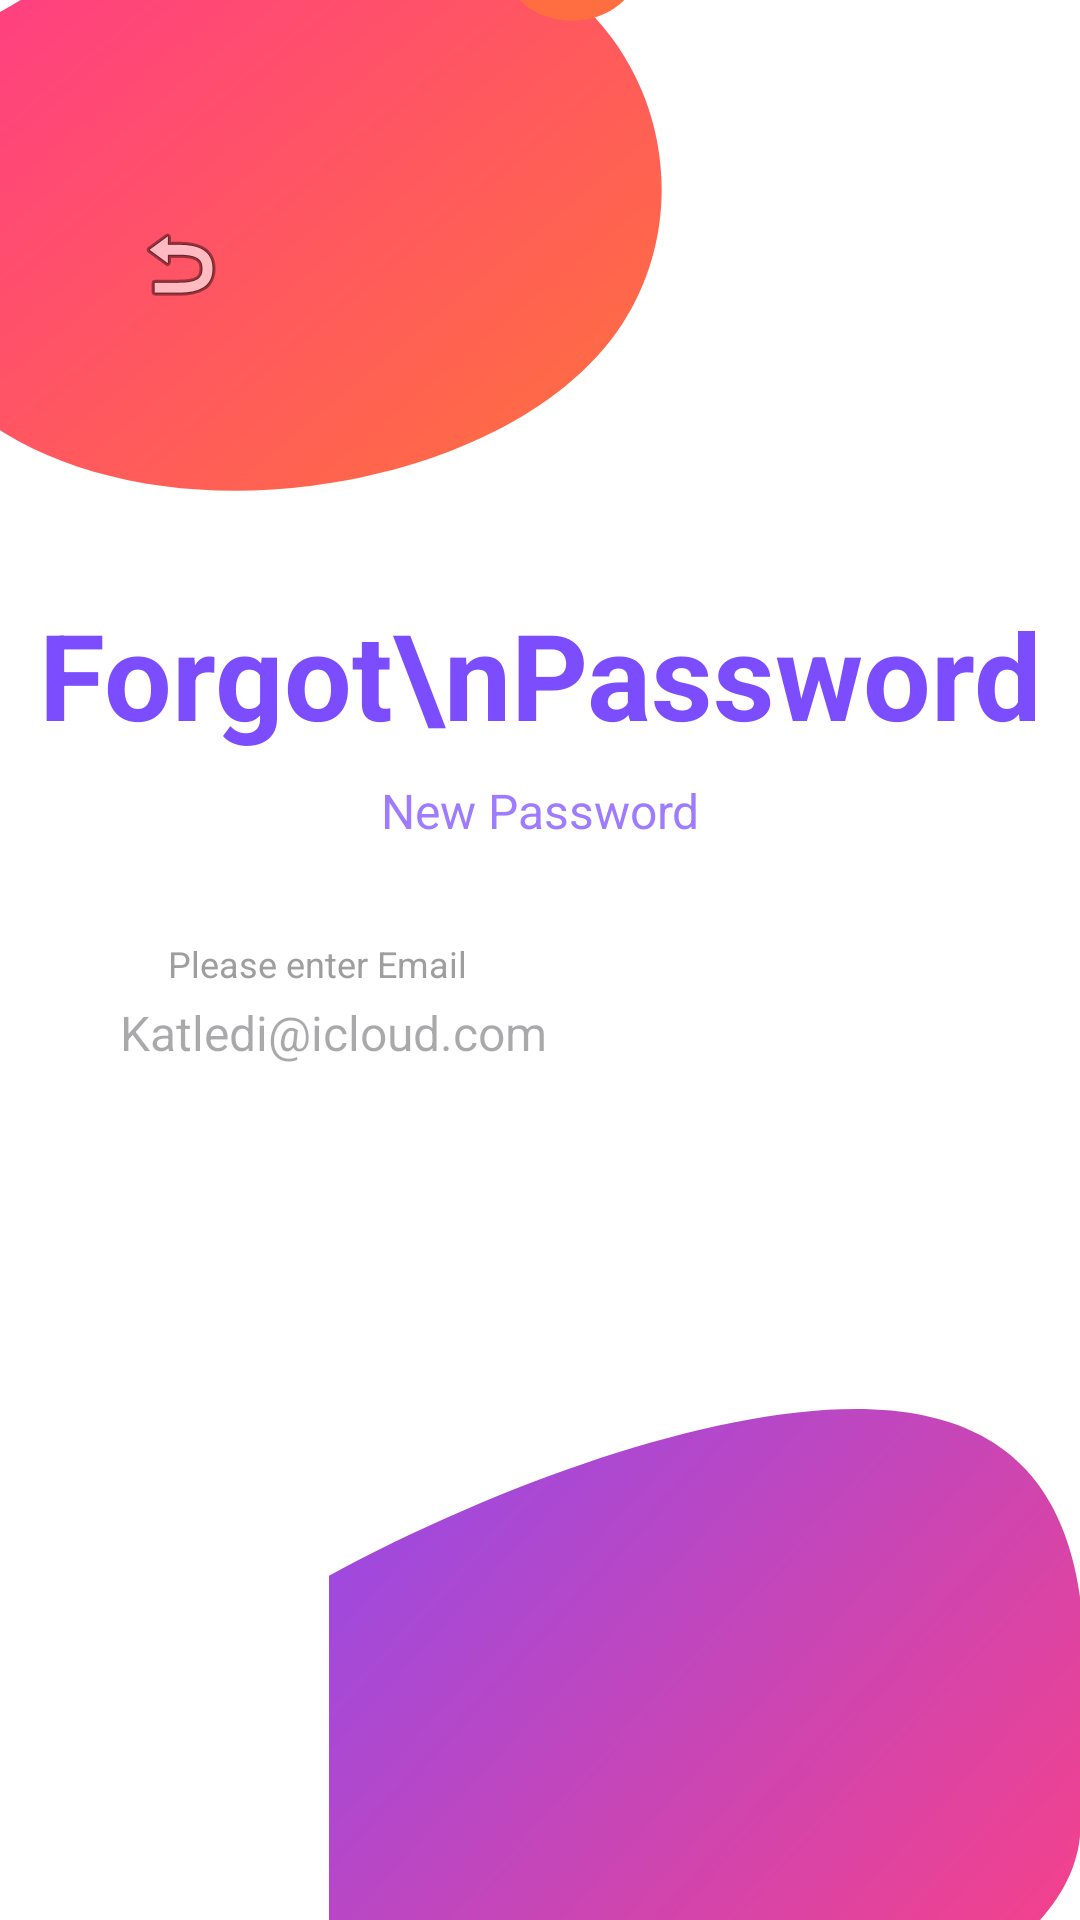

Named icons in this screenshot (1080x1920) and their centers, [x,y]:
Back: [181,264]
